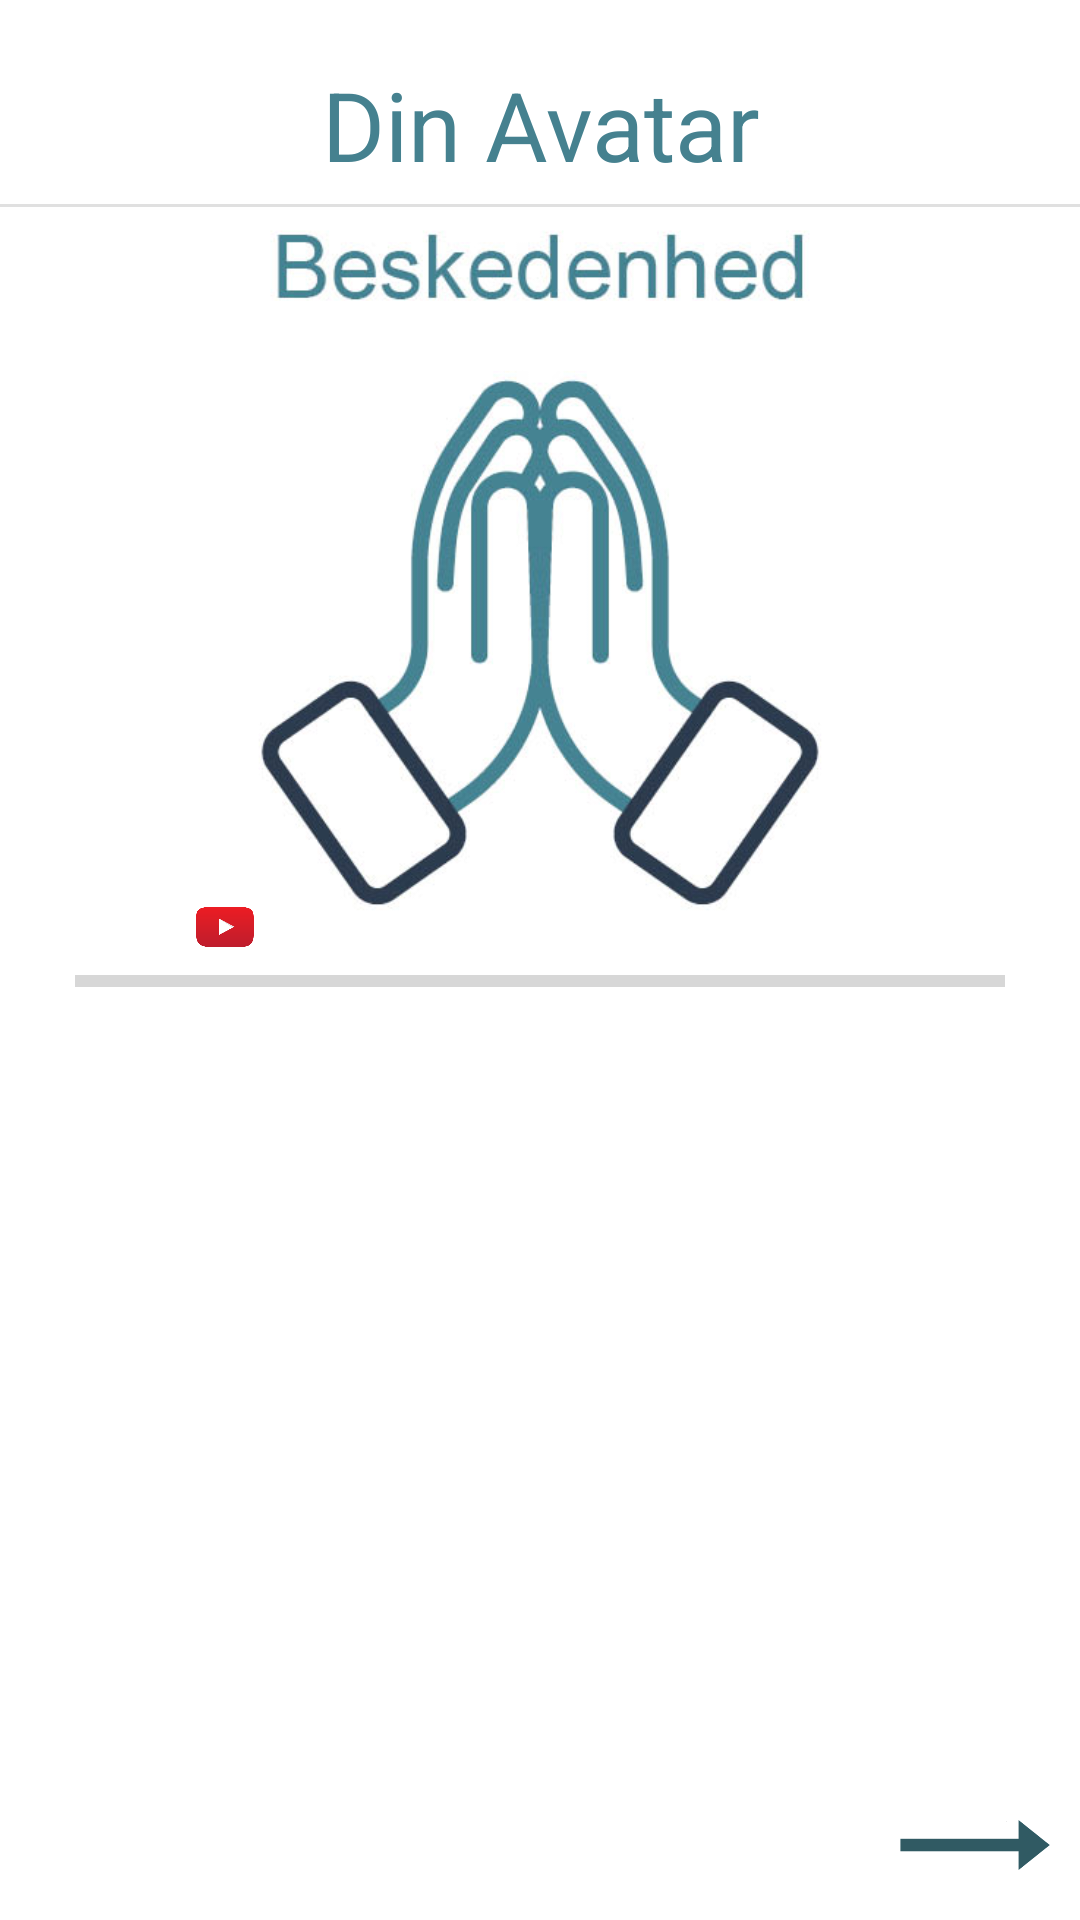

Icons on this 1080*1920 Android screen, each with the point to tap as (x=x, y=y):
arrow right: (x=975, y=1845)
